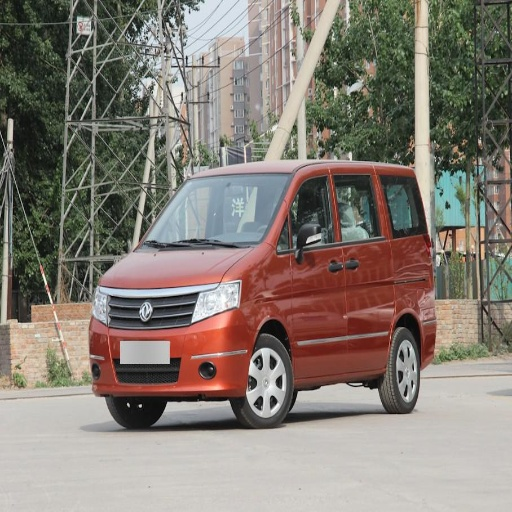front_bumper: (90, 283, 256, 398)
front_glass: (141, 177, 289, 249)
front_left_door: (277, 169, 354, 375)
trunk: (396, 261, 430, 329)
